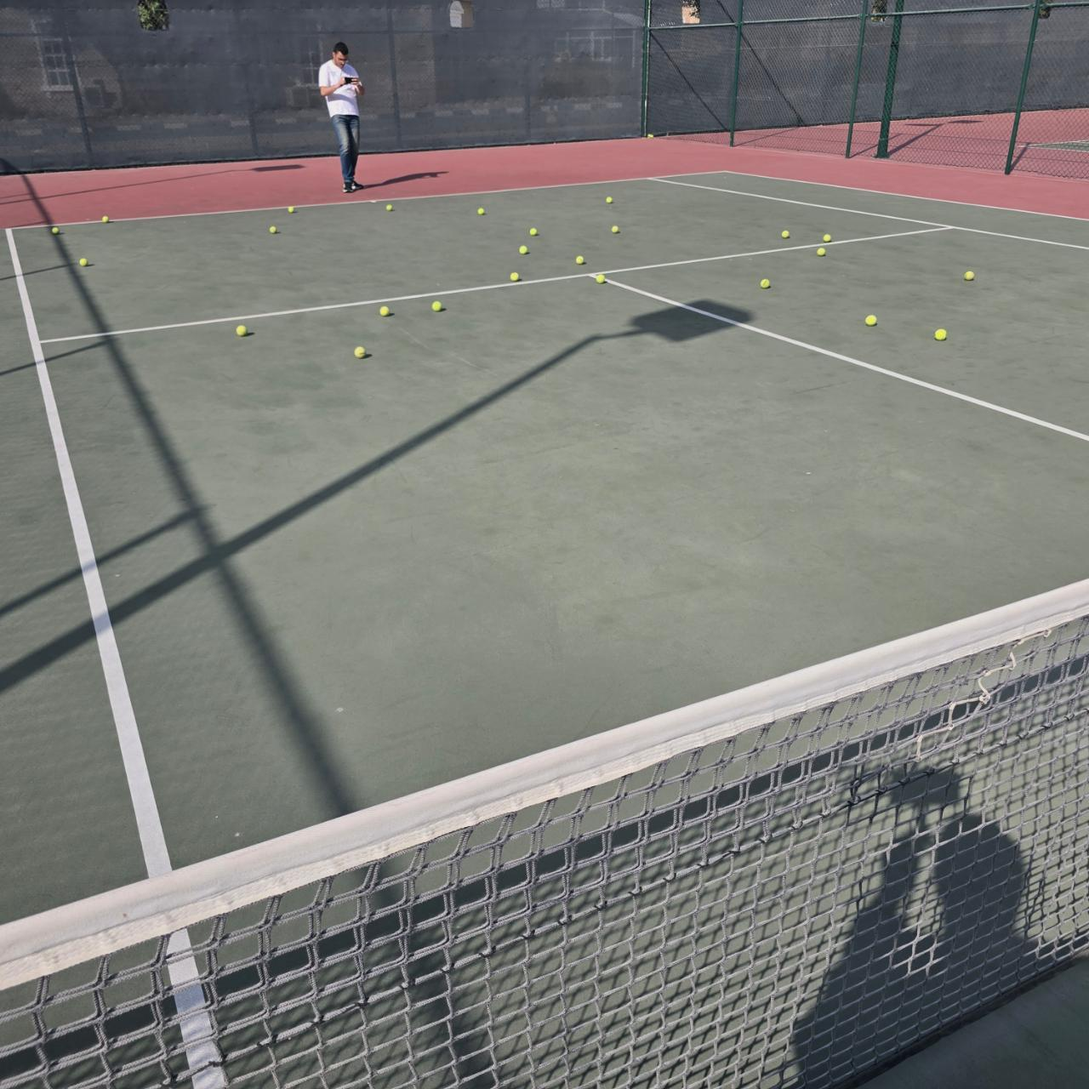tennis-ball: (934, 326, 949, 340), (865, 314, 878, 326), (354, 346, 366, 359), (236, 325, 248, 336), (760, 278, 771, 289), (379, 306, 390, 317), (964, 271, 975, 281), (432, 301, 442, 312), (510, 271, 519, 282), (817, 247, 826, 257), (596, 274, 606, 283), (519, 244, 528, 254), (823, 233, 832, 242), (576, 255, 585, 264), (529, 227, 538, 236), (79, 258, 88, 267), (101, 215, 110, 224), (781, 230, 790, 238), (269, 225, 278, 233), (611, 225, 619, 234), (477, 207, 485, 215), (605, 196, 613, 204), (385, 204, 393, 211), (52, 227, 60, 234), (288, 206, 295, 213), (648, 133, 654, 138)
